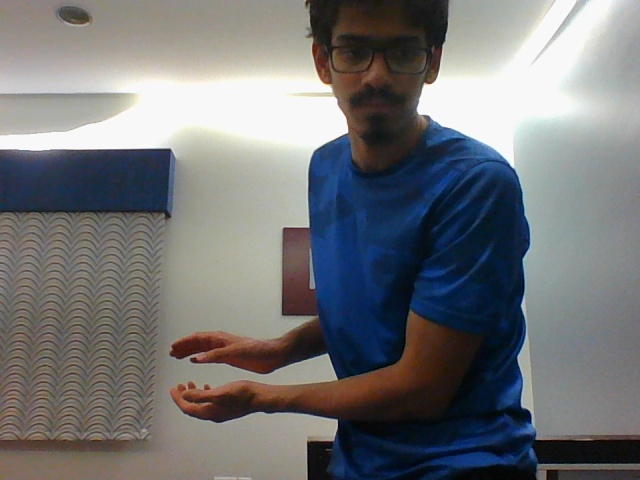charge: (154, 310, 295, 432)
